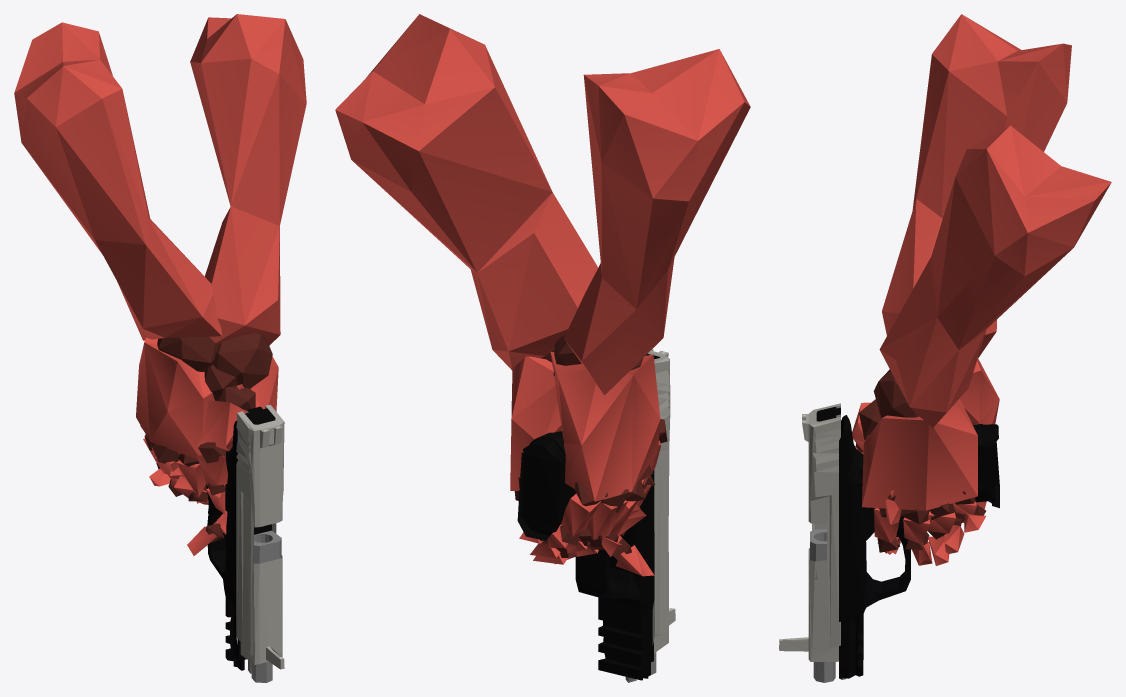
Rendered from M&P9shootLowP_000203.obj.
3 views of the same model, side by side, from view 1: azimuth 30°, elevation 25°; view 2: azimuth 150°, elevation 25°; view 3: azimuth 270°, elevation 25° (orthographic). The views are drawn at different scales.
Parts seen in each view (by area): view 1: Beta_Surface.001_Beta_Surface.002, slide_平面.002, Beta_Joints.001_Beta_Joints.002, triger_平面.001; view 2: Beta_Surface.001_Beta_Surface.002, triger_平面.001, slide_平面.002, Beta_Joints.001_Beta_Joints.002; view 3: Beta_Surface.001_Beta_Surface.002, triger_平面.001, slide_平面.002, Beta_Joints.001_Beta_Joints.002.
Part boxes in pixels (box(x1,y1,x2,y2)): Beta_Surface.001_Beta_Surface.002: box(14, 14, 306, 555); slide_平面.002: box(236, 404, 284, 669); Beta_Joints.001_Beta_Joints.002: box(139, 333, 272, 542); triger_平面.001: box(206, 420, 281, 682); Beta_Surface.001_Beta_Surface.002: box(335, 14, 750, 576); triger_平面.001: box(522, 431, 656, 682); slide_平面.002: box(645, 348, 675, 653); Beta_Joints.001_Beta_Joints.002: box(514, 334, 667, 564); Beta_Surface.001_Beta_Surface.002: box(852, 14, 1111, 565); triger_平面.001: box(810, 415, 998, 682); slide_平面.002: box(779, 403, 840, 661); Beta_Joints.001_Beta_Joints.002: box(856, 369, 986, 553).
Size of the model in its own units: 42.47 by 80.1 by 40.26.
